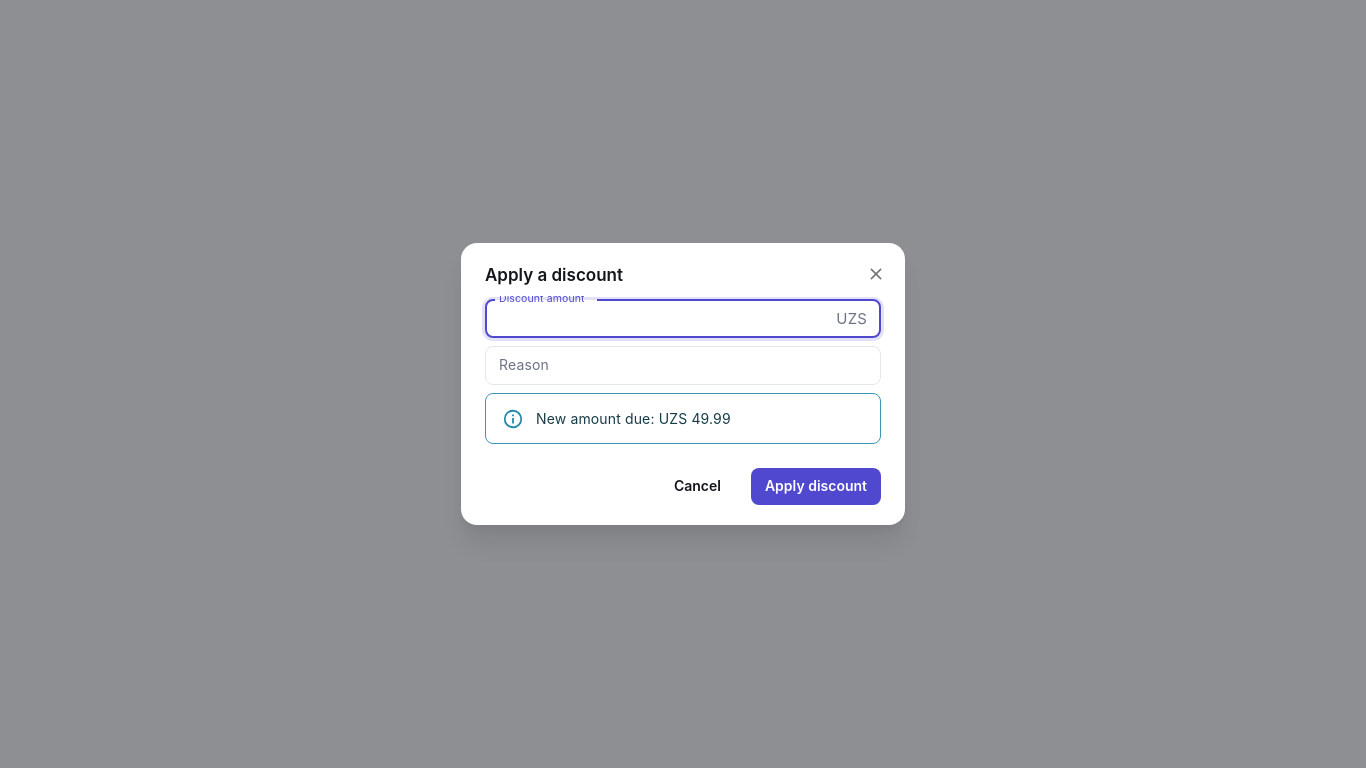
Test: membership actions › discount › shows what the member will owe before committing
Type "10" into the field labelled "Discount amount" at (657, 319), box [485,300,828,338]
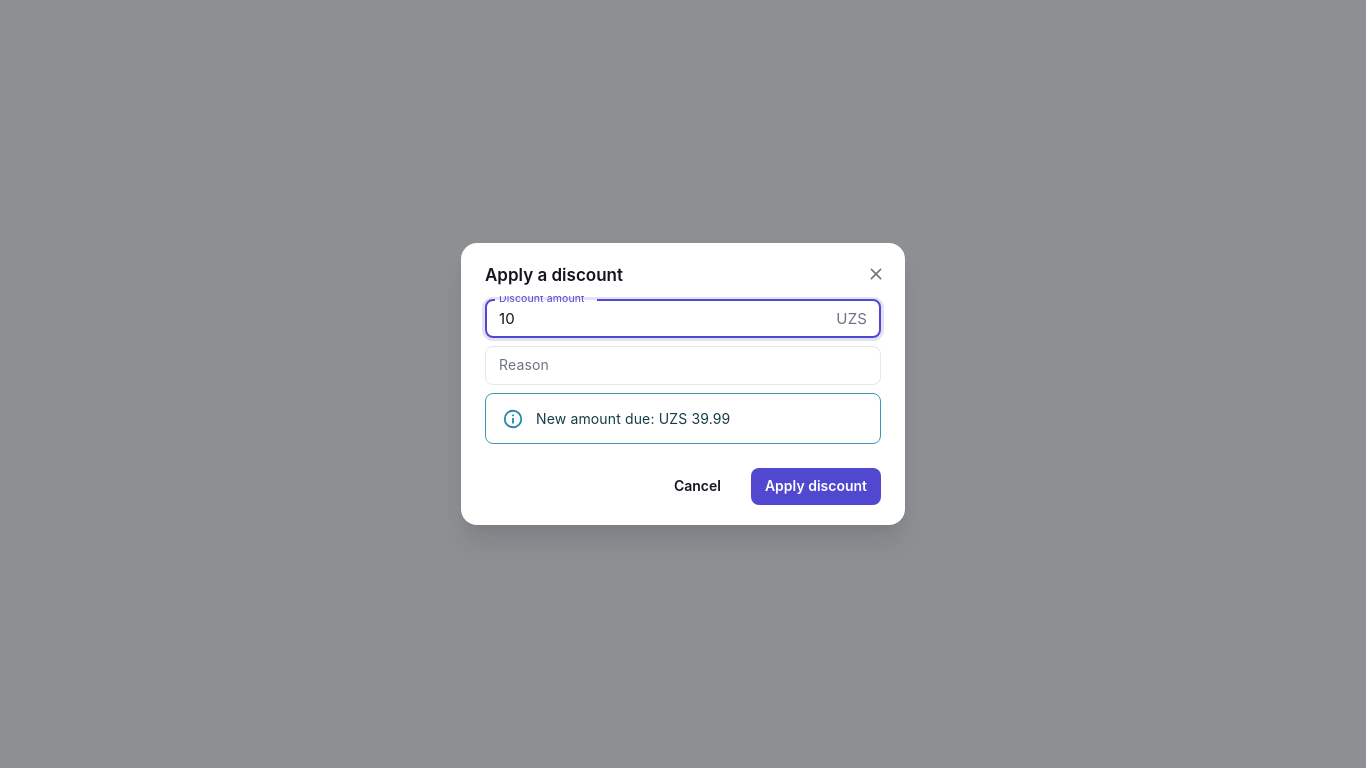
Expected: the text "New amount due: UZS 39.99" is shown, [536,410,730,427]
